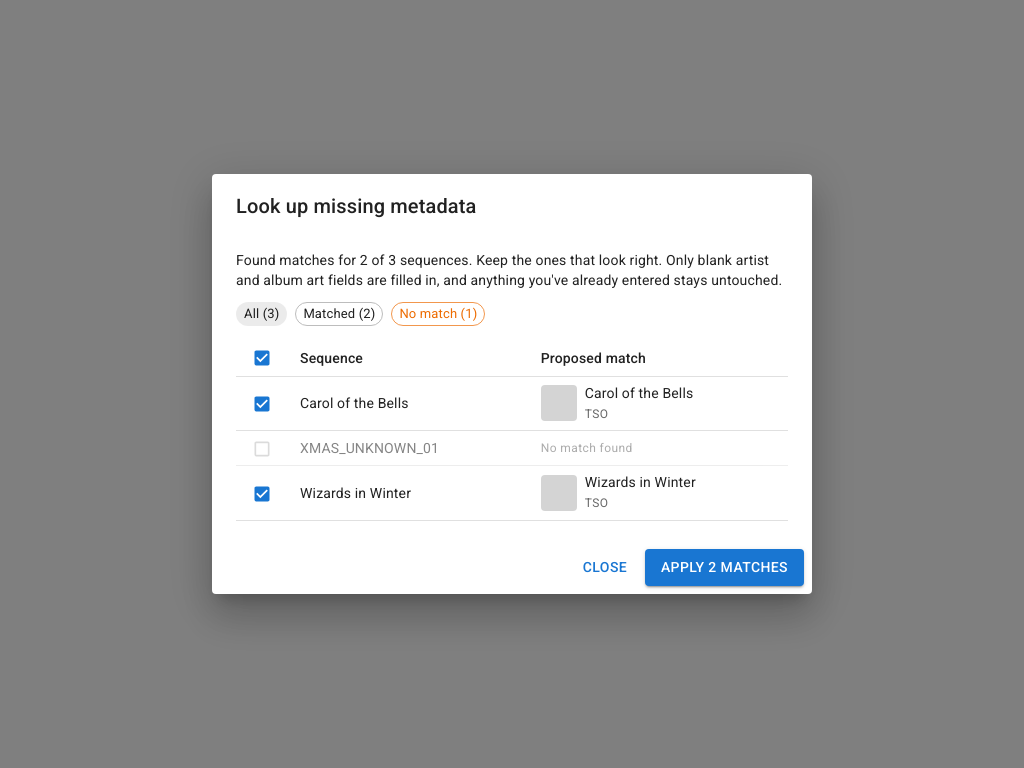
BulkMetadataLookupDialog › summarizes outcomes as chips and filters rows by status
This screenshot has width=1024, height=768.
Expected: the text "All (3)" is shown, [244,306,279,322]
Expected: the text "Matched (2)" is shown, [303,306,375,322]
Click the button "No match (1)". click: (438, 314)
box: [391,302,485,326]
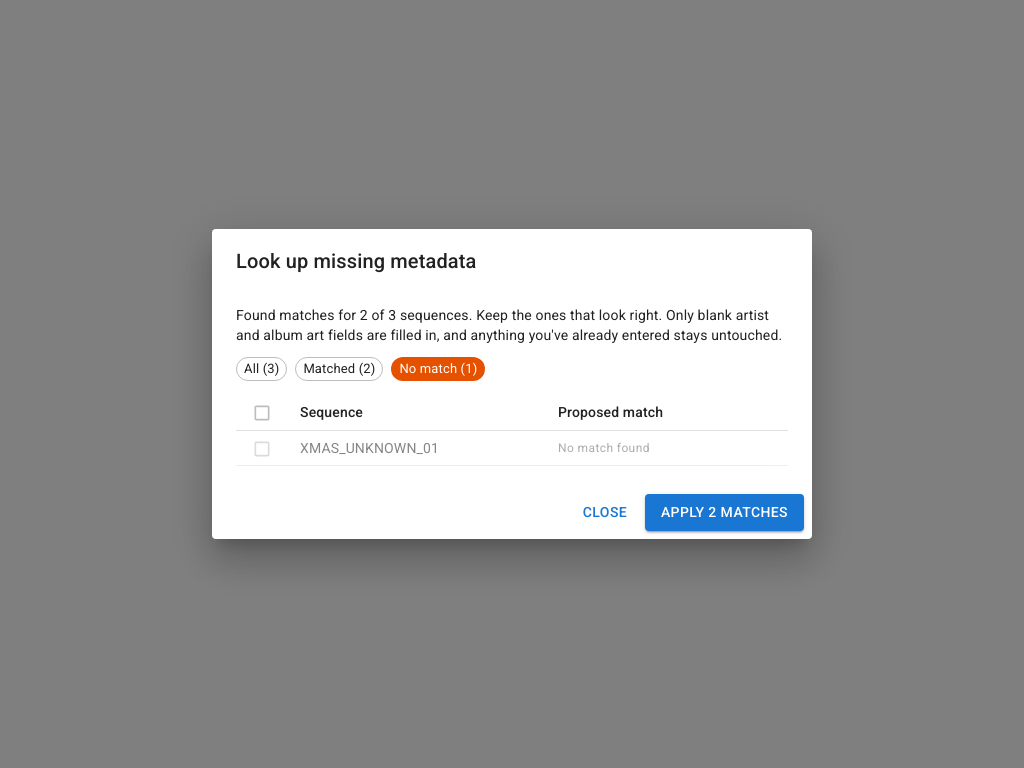
Expected: the text "XMAS_UNKNOWN_01" is shown, [300,440,439,456]
Expected: the text "Wizards in Winter" is gone
Click the button "All (3)". click: (262, 369)
box: [236,357,287,381]
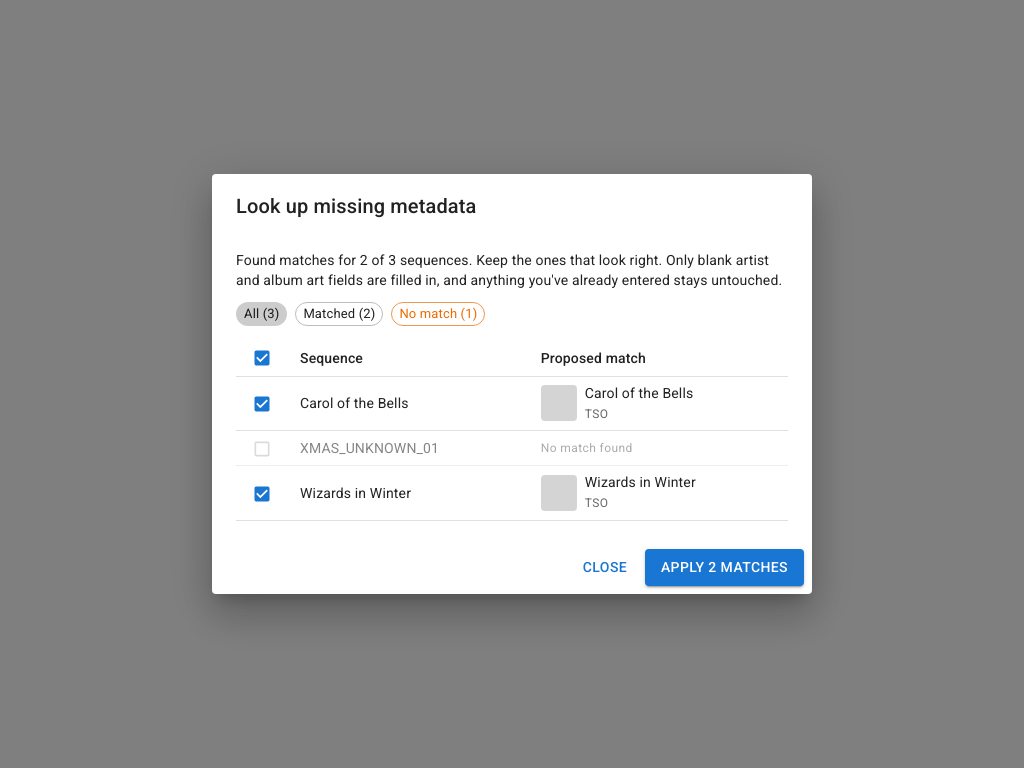
Expected: the 2nd text "Wizards in Winter" is shown, [300,485,411,501]
